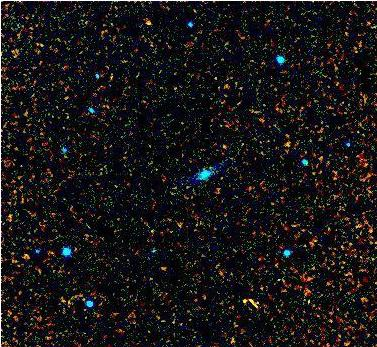star: (131, 4, 161, 34)
